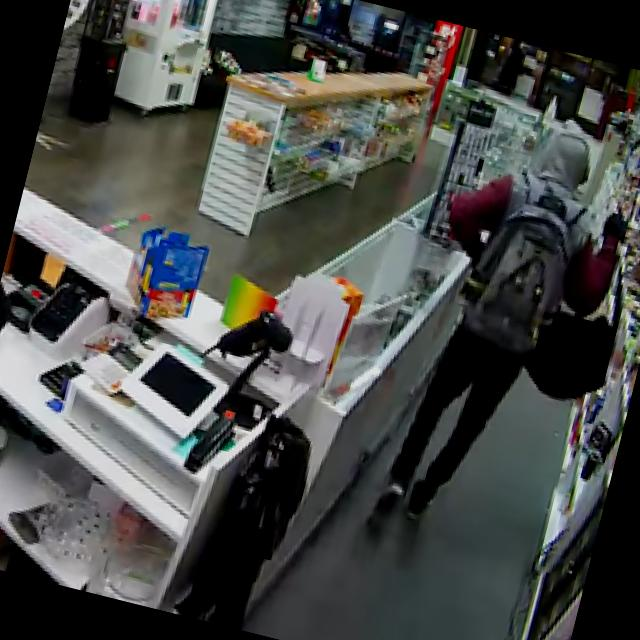person: (371, 105, 640, 552)
